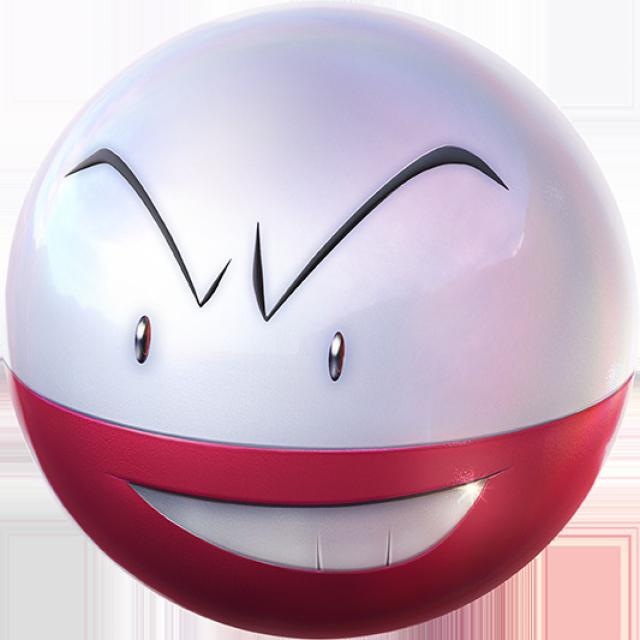Electrode: (3, 9, 640, 636)
